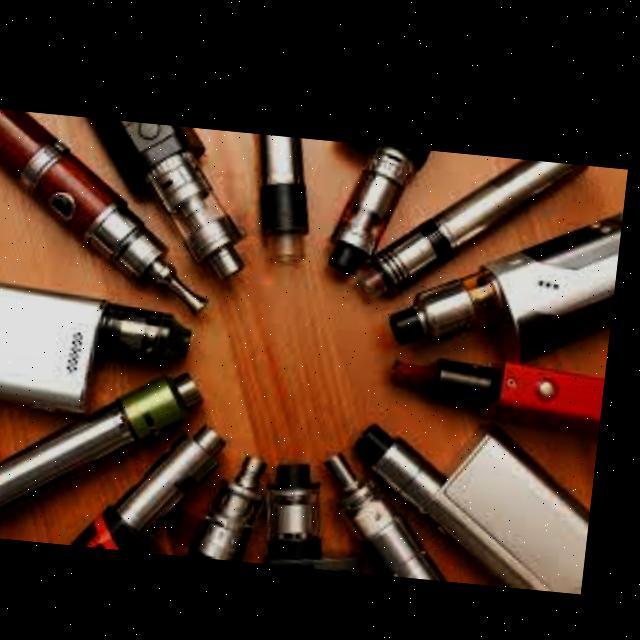vape: (0, 108, 217, 311), (362, 410, 601, 578), (393, 199, 625, 353), (363, 148, 592, 290), (0, 368, 212, 518), (0, 281, 199, 413), (92, 116, 252, 275), (87, 418, 237, 549), (337, 444, 459, 571), (399, 348, 611, 421), (332, 134, 434, 265), (276, 456, 373, 564), (199, 448, 277, 554), (263, 128, 313, 259)
